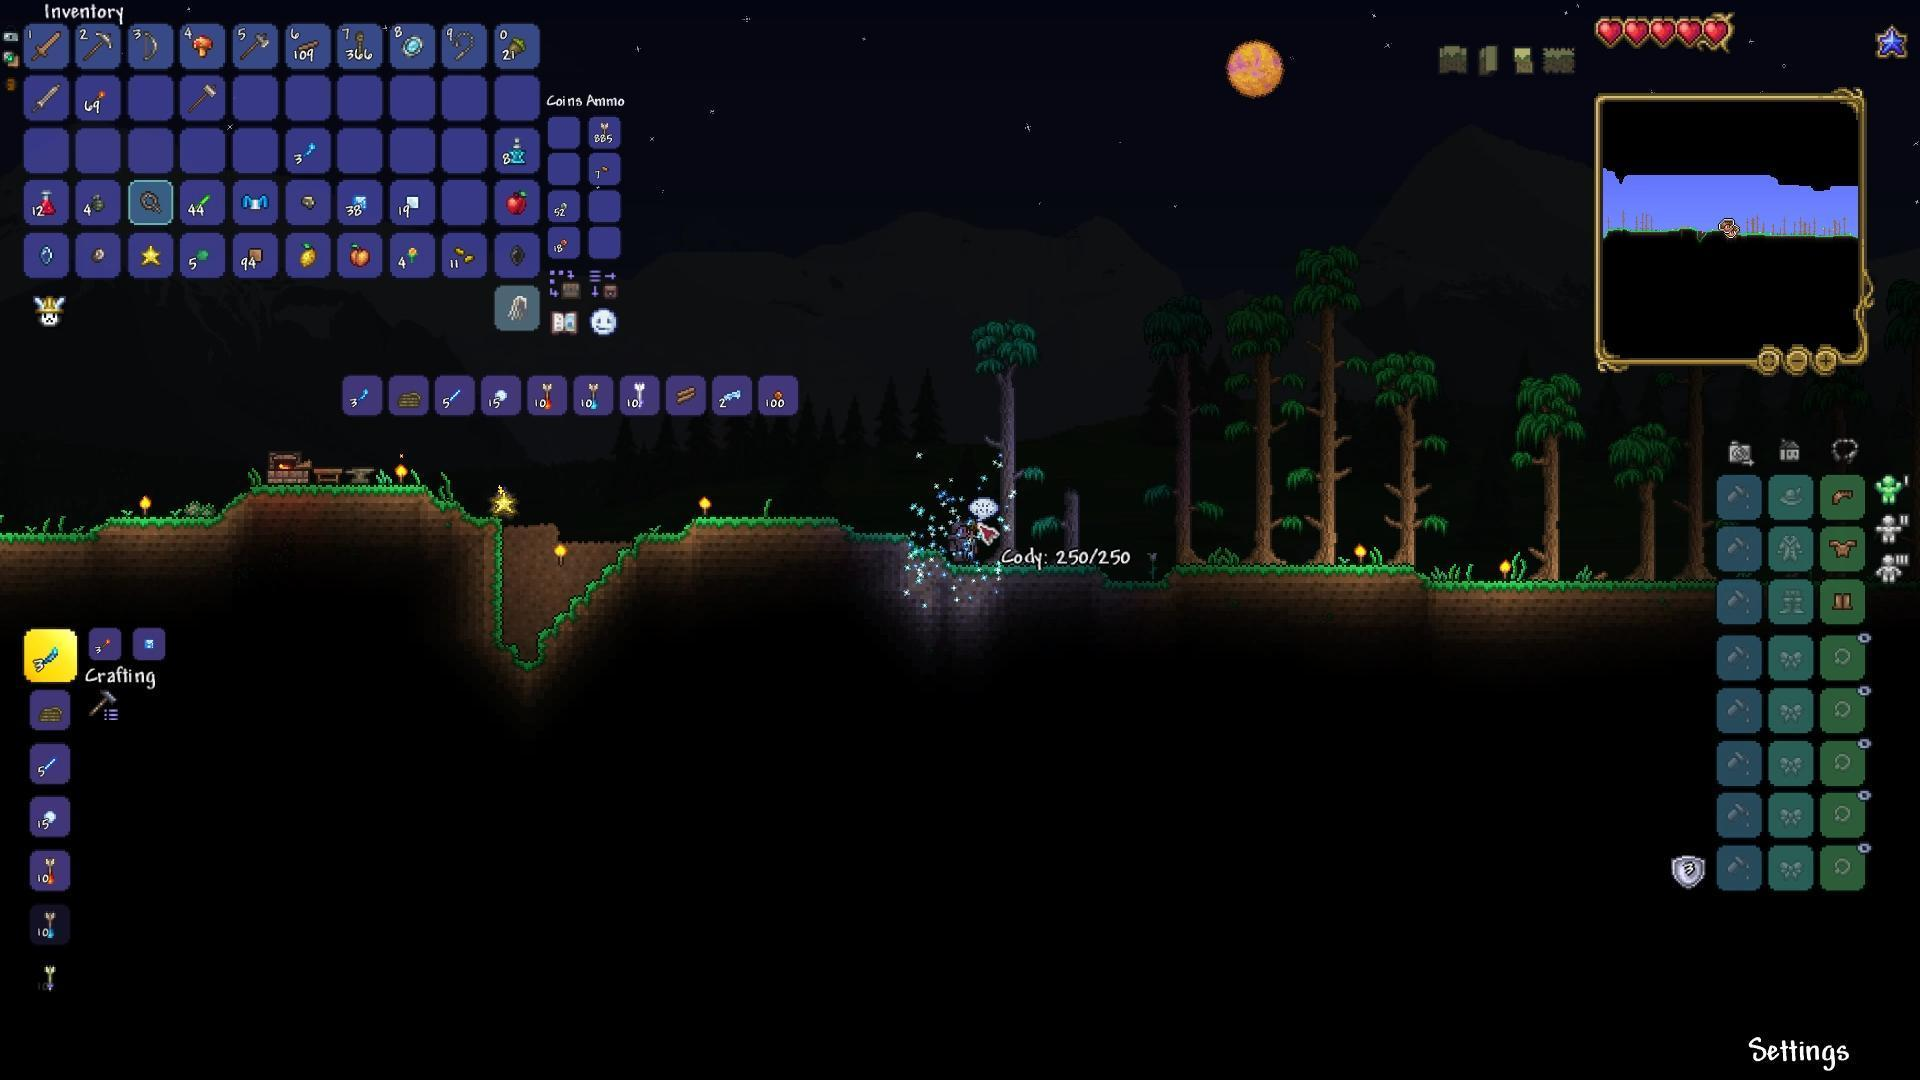grenade: (88, 190, 108, 215)
potion: (37, 185, 57, 222), (508, 133, 526, 162)
star: (488, 488, 517, 518), (138, 244, 161, 268)
